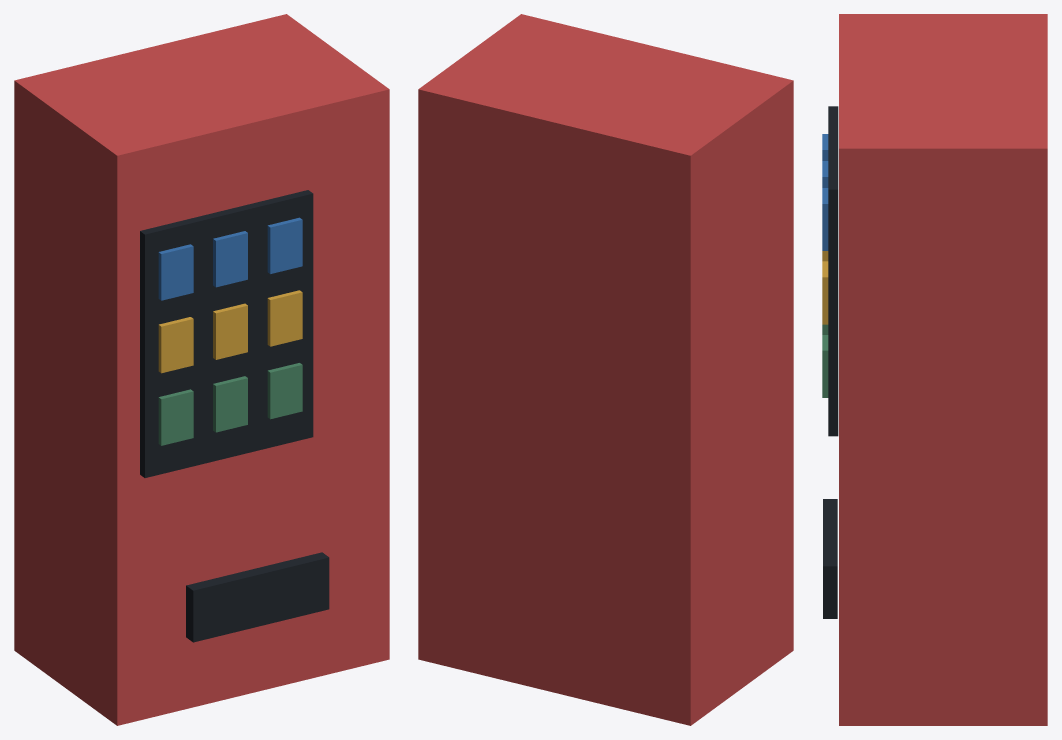
File: vending-machine.glb
The picture shows the model from 3 angles, left to right: view 1: azimuth 30°, elevation 25°; view 2: azimuth 150°, elevation 25°; view 3: azimuth 270°, elevation 25°; orthographic projection.
Bounding box in the file's own units: 1.1 × 2.2 × 0.7775.
